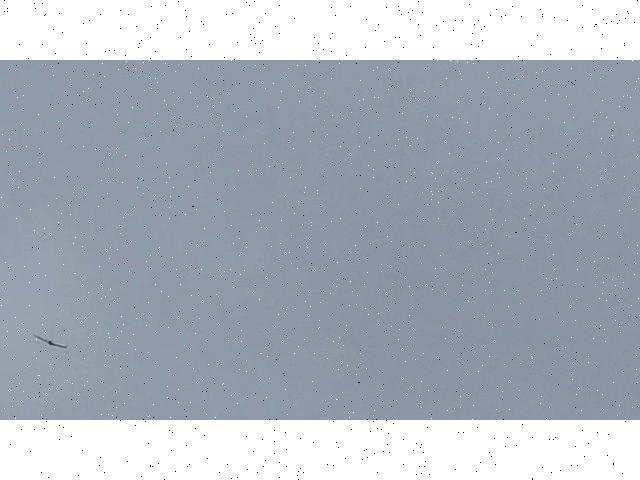Anti-Drone: (30, 332, 70, 350)
